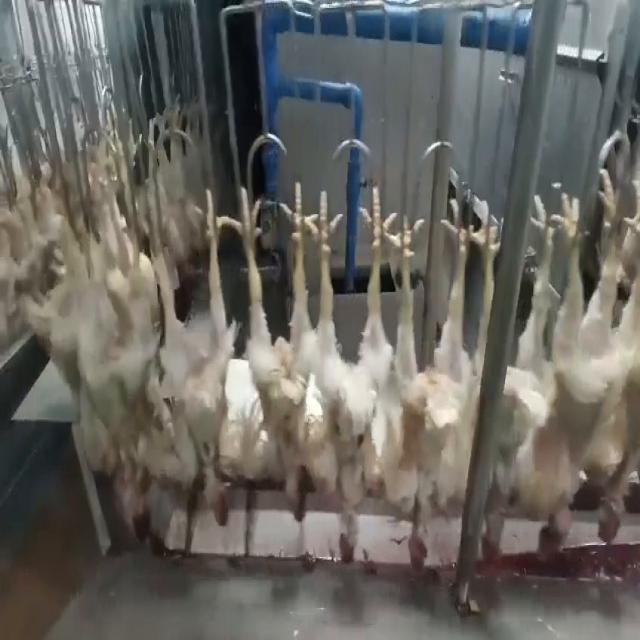chicken: (383, 207, 500, 578), (309, 178, 398, 564), (228, 179, 316, 524), (513, 188, 590, 570), (160, 180, 236, 529), (584, 182, 639, 545), (112, 183, 162, 550)
